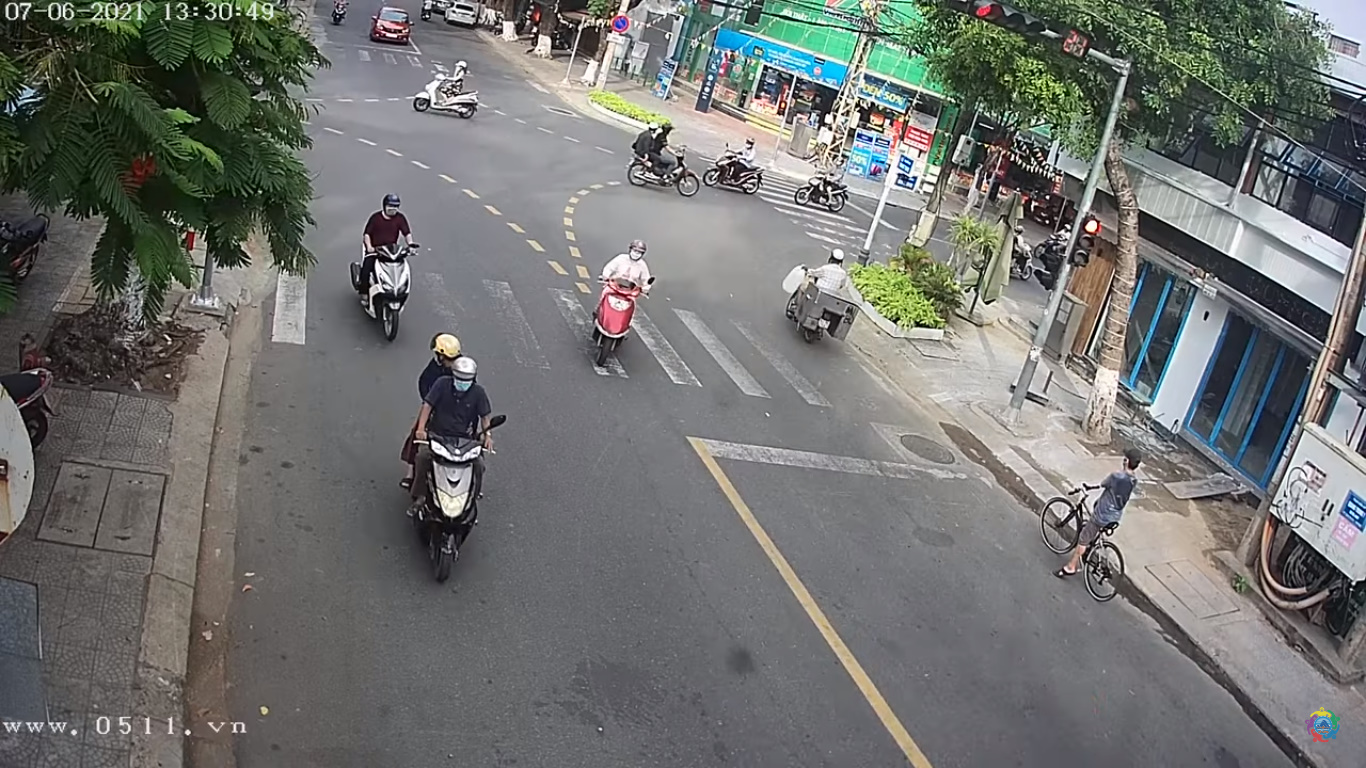motorbike: (401, 338, 496, 581), (353, 197, 427, 338), (582, 239, 660, 370)
